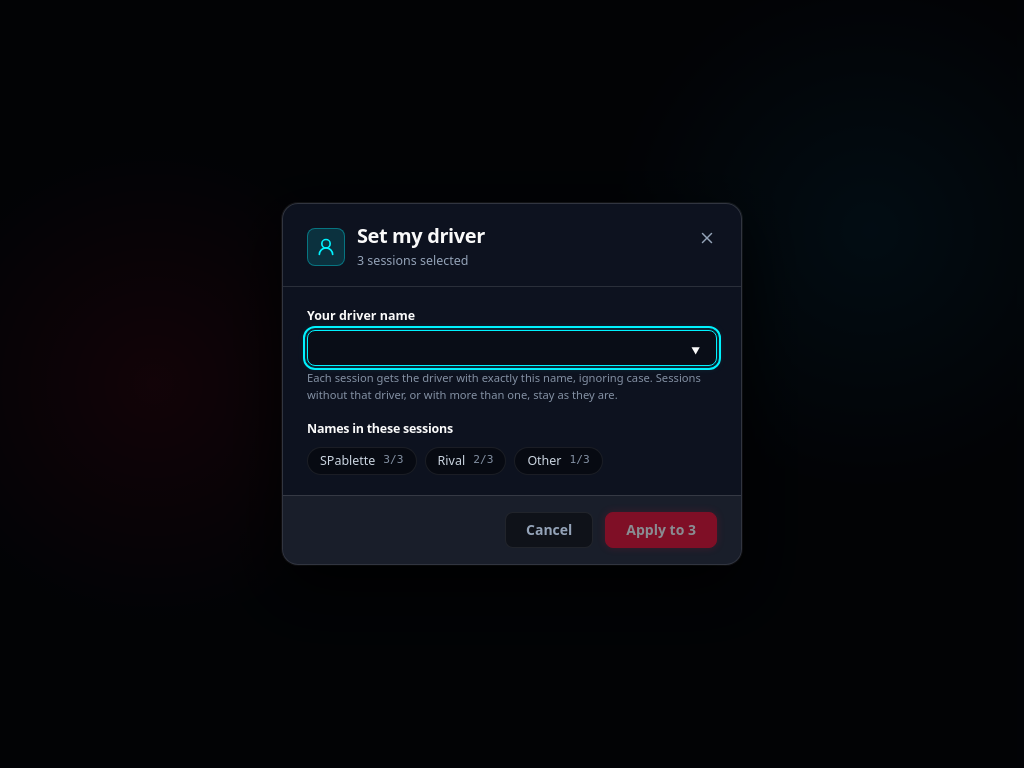
BatchDriverModal › suggests the names in the selected sessions, the most common first, and fills the field
The width and height of the screenshot is (1024, 768).
Expected: the button "Apply to 3" is disabled, [605,512,717,548]
Click the button "SPablette 3/3" at coordinates (362, 461), box [307,446,417,475]
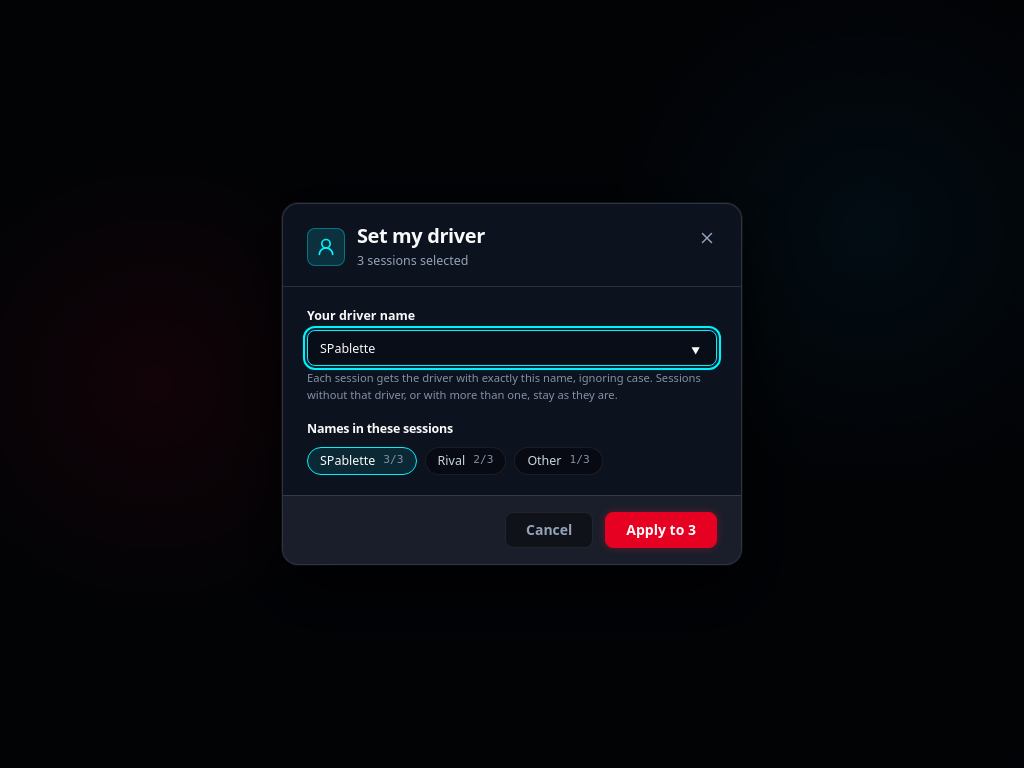
Now the field labelled "Your driver name" holds "SPablette", box [307,330,717,366]
Now the button "Apply to 3" is enabled, box [605,512,717,548]
